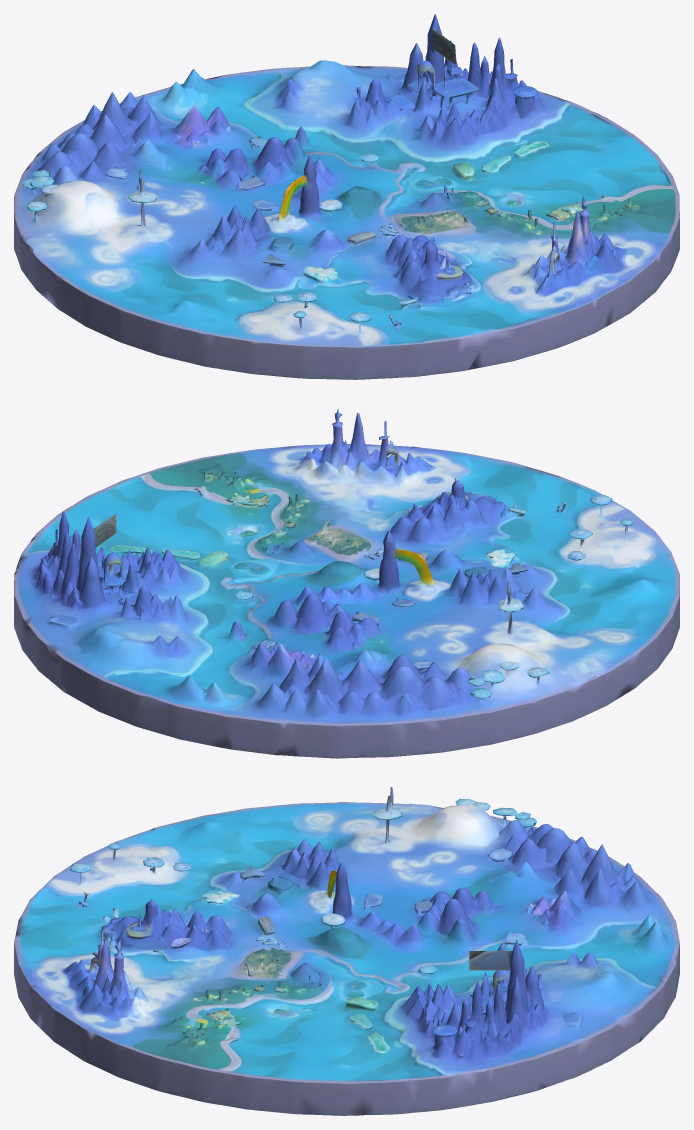
Rendered from tripo_convert_3eba5434-73a4-4e5f-83ee-7dadb63857ee.glb.
3 views of the same model, one above another, from view 1: azimuth 30°, elevation 25°; view 2: azimuth 150°, elevation 25°; view 3: azimuth 270°, elevation 25° (orthographic).
Parts seen in each view (by area): view 1: tripo_node_3eba5434-73a4-4e5f-83ee-7dadb63857ee; view 2: tripo_node_3eba5434-73a4-4e5f-83ee-7dadb63857ee; view 3: tripo_node_3eba5434-73a4-4e5f-83ee-7dadb63857ee.
Part boxes in pixels (x1,y1,x2,y2): tripo_node_3eba5434-73a4-4e5f-83ee-7dadb63857ee: (14,14,679,379); tripo_node_3eba5434-73a4-4e5f-83ee-7dadb63857ee: (14,408,679,758); tripo_node_3eba5434-73a4-4e5f-83ee-7dadb63857ee: (14,787,679,1115).
Size of the model in its own units: 1 by 0.1993 by 1.
1 material, 1 textured.
